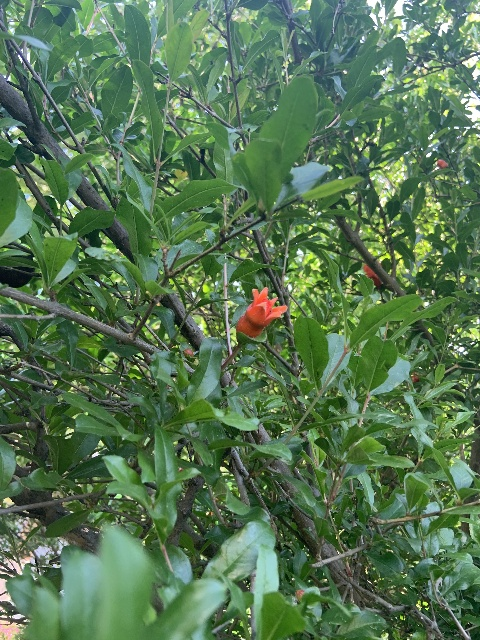bud: (436, 159, 448, 168), (183, 348, 193, 356)
flower: (235, 286, 287, 338), (363, 263, 382, 287)
